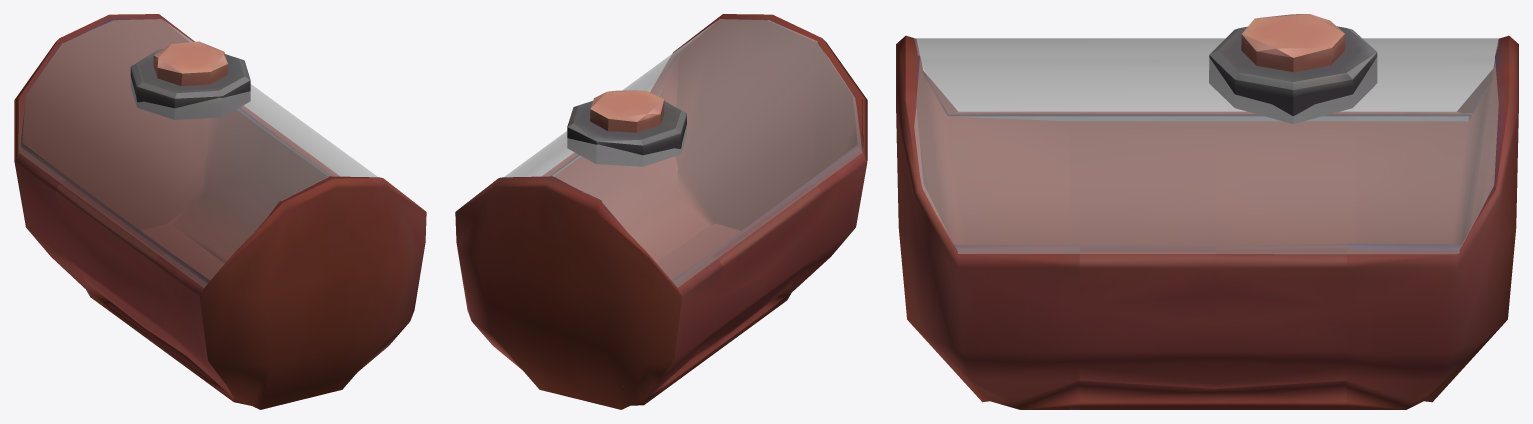
Rendered from SM_火车油罐身.glb.
The picture shows the model from 3 angles, left to right: view 1: azimuth 30°, elevation 25°; view 2: azimuth 150°, elevation 25°; view 3: azimuth 270°, elevation 25°; orthographic projection. The views are drawn at different scales.
Visible parts, largest first — view 1: SM_火车油罐身; view 2: SM_火车油罐身; view 3: SM_火车油罐身.
Boxes of the visible parts, x1=… form: SM_火车油罐身: x1=14, y1=14, x2=426, y2=409; SM_火车油罐身: x1=455, y1=14, x2=867, y2=409; SM_火车油罐身: x1=896, y1=14, x2=1518, y2=409.
Bounding box in the file's own units: 1.29 × 1.41 × 2.29.
Materials: 6 (3 with a texture image).
